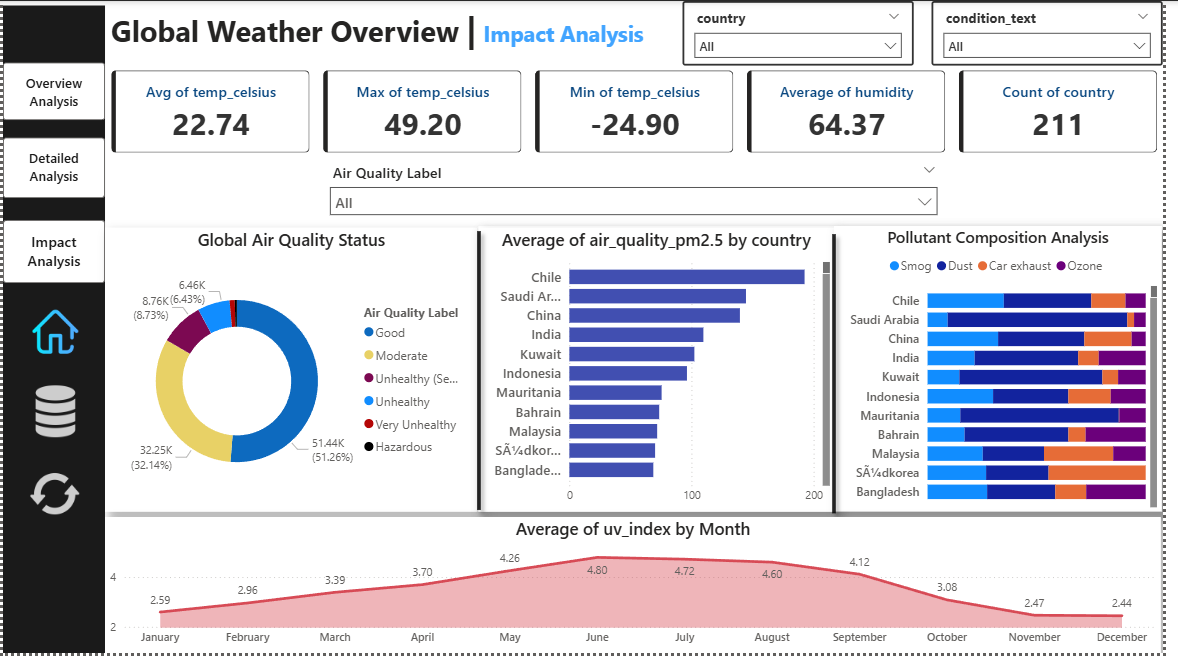

This screenshot's page, from the dashboard's own definition file:
{"tool":"powerbi","page":{"name":"impact","canvas":[1280,720],"ordinal":2},"visuals":[{"type":"textbox","box":[0,4.4,112.6,715.6],"z":0},{"type":"group","id":"g1","title":"Group 1","box":[0,67.9,112.6,149.1],"z":1000},{"type":"image","box":[22.6,334.1,69.6,61.3],"z":2000},{"type":"image","title":"My Github","box":[23.2,418.5,69.6,67.9],"z":3000},{"type":"image","box":[21.5,511.3,71.2,64.6],"z":4000},{"type":"actionButton","box":[0,241.8,112.6,69.6],"z":5000},{"type":"textbox","box":[114.3,0,636.1,71.2],"z":6000},{"type":"slicer","fields":{"Values":["Cleaned_Climatescoop.country"]},"box":[750.4,0,255.1,71.2],"z":7000},{"type":"actionButton","box":[0,67.9,112.6,63.7],"z":8000,"group":"g1"},{"type":"slicer","fields":{"Values":["Cleaned_Climatescoop.condition_text"]},"box":[1024.9,0,255.1,71.2],"z":8000},{"type":"cardVisual","fields":{"Data":["Avg(Cleaned_Climatescoop.temperature_celsius)","Max(Cleaned_Climatescoop.temperature_celsius)1","Min(Cleaned_Climatescoop.temperature_celsius)2","Avg(Cleaned_Climatescoop.humidity)","Count(Cleaned_Climatescoop.country)"]},"box":[113.8,71.2,1166.2,101],"z":9000},{"type":"actionButton","box":[0.1,150.1,112.6,66.9],"z":9000,"group":"g1"},{"type":"donutChart","title":"Global Air Quality Status","fields":{"Category":["Cleaned_Climatescoop.Air Quality Label"],"Y":["CountNonNull(Cleaned_Climatescoop.country)"]},"box":[113.2,250.4,411.6,313.9],"z":10000},{"type":"slicer","fields":{"Values":["Cleaned_Climatescoop.Air Quality Label"]},"box":[350.7,171.8,690.7,69.8],"z":11000},{"type":"textbox","box":[524.8,248.7,754.6,315.6],"z":12000},{"type":"clusteredBarChart","fields":{"Category":["Cleaned_Climatescoop.country"],"Y":["Avg(Cleaned_Climatescoop.air_quality_pm2.5)"]},"box":[524.8,250.4,392.7,313.9],"z":13000},{"type":"hundredPercentStackedBarChart","title":"Pollutant Composition Analysis","fields":{"Category":["Cleaned_Climatescoop.country"],"Y":["Avg(Cleaned_Climatescoop.air_quality_pm2.5)","Avg(Cleaned_Climatescoop.air_quality_pm10)","Avg(Cleaned_Climatescoop.air_quality_nitrogen_dioxide)","Avg(Cleaned_Climatescoop.air_quality_ozone)"]},"box":[917.6,248.7,361.9,315.6],"z":14000},{"type":"shape","box":[902.8,248.5,29.8,326.3],"z":15000},{"type":"shape","box":[509.4,245.3,30.9,325.9],"z":16000},{"type":"areaChart","fields":{"Category":["Cleaned_Climatescoop.last_updated.Variation.Date Hierarchy.Month"],"Y":["Avg(Cleaned_Climatescoop.uv_index)"]},"box":[113.2,569.4,1166.2,150.9],"z":17000}]}

Visuals, with their boxes on the page's 1280x720 design canvas (x1, y1, x2, y2). These are canvas units, not pixel positions in the 1178x660 screenshot, which may show the page scaled, cropped or inside an application window:
textbox: <box>0,4,113,720</box>
"Group 1" group: <box>0,68,113,217</box>
image: <box>23,334,92,395</box>
"My Github" image: <box>23,418,93,486</box>
image: <box>22,511,93,576</box>
actionButton: <box>0,242,113,311</box>
textbox: <box>114,0,750,71</box>
slicer - Cleaned_Climatescoop.country: <box>750,0,1006,71</box>
actionButton: <box>0,68,113,132</box>
slicer - Cleaned_Climatescoop.condition_text: <box>1025,0,1280,71</box>
cardVisual - Avg(Cleaned_Climatescoop.temperature_celsius) x Max(Cleaned_Climatescoop.temperature_celsius)1: <box>114,71,1280,172</box>
actionButton: <box>0,150,113,217</box>
"Global Air Quality Status" donutChart: <box>113,250,525,564</box>
slicer - Cleaned_Climatescoop.Air Quality Label: <box>351,172,1041,242</box>
textbox: <box>525,249,1279,564</box>
clusteredBarChart - Cleaned_Climatescoop.country x Avg(Cleaned_Climatescoop.air_quality_pm2.5): <box>525,250,918,564</box>
"Pollutant Composition Analysis" hundredPercentStackedBarChart: <box>918,249,1280,564</box>
shape: <box>903,248,933,575</box>
shape: <box>509,245,540,571</box>
areaChart - Cleaned_Climatescoop.last_updated.Variation.Date Hierarchy.Month x Avg(Cleaned_Climatescoop.uv_index): <box>113,569,1279,720</box>
